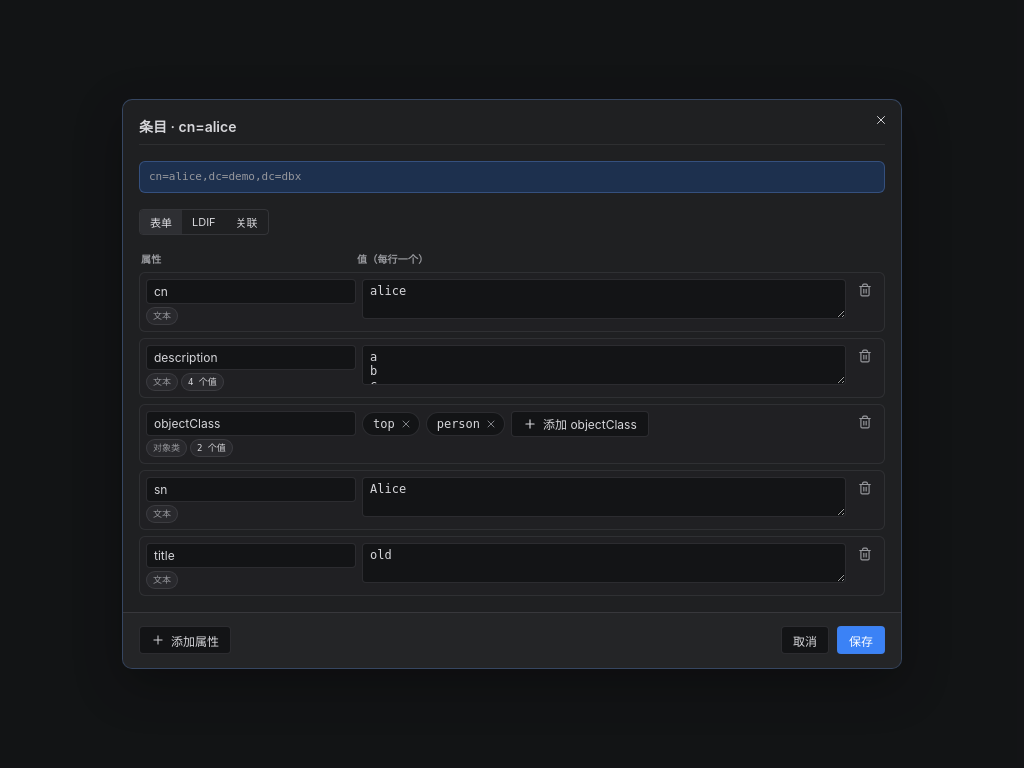
it: changes preview before save (edit mode) › veto Esc while the preview is open so edits cannot be dropped
Replace the text in the text box named "cn" with "alice2" at (604, 299), box [362, 279, 846, 319]
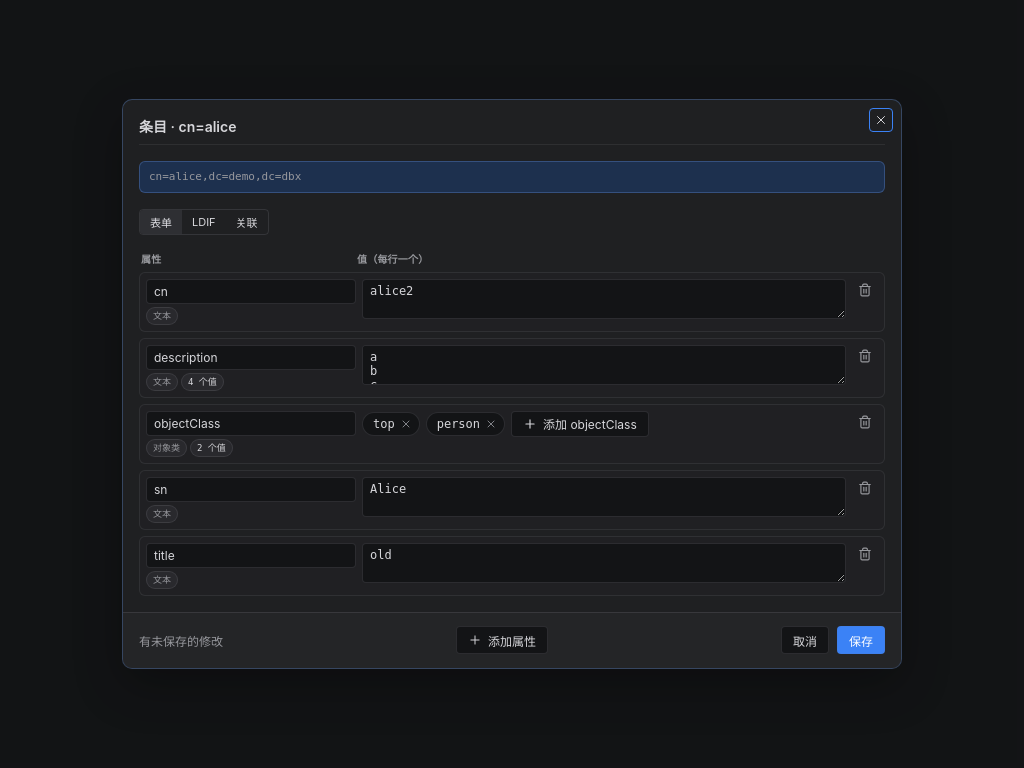
Click the button "保存" at (861, 640), box [837, 626, 885, 654]
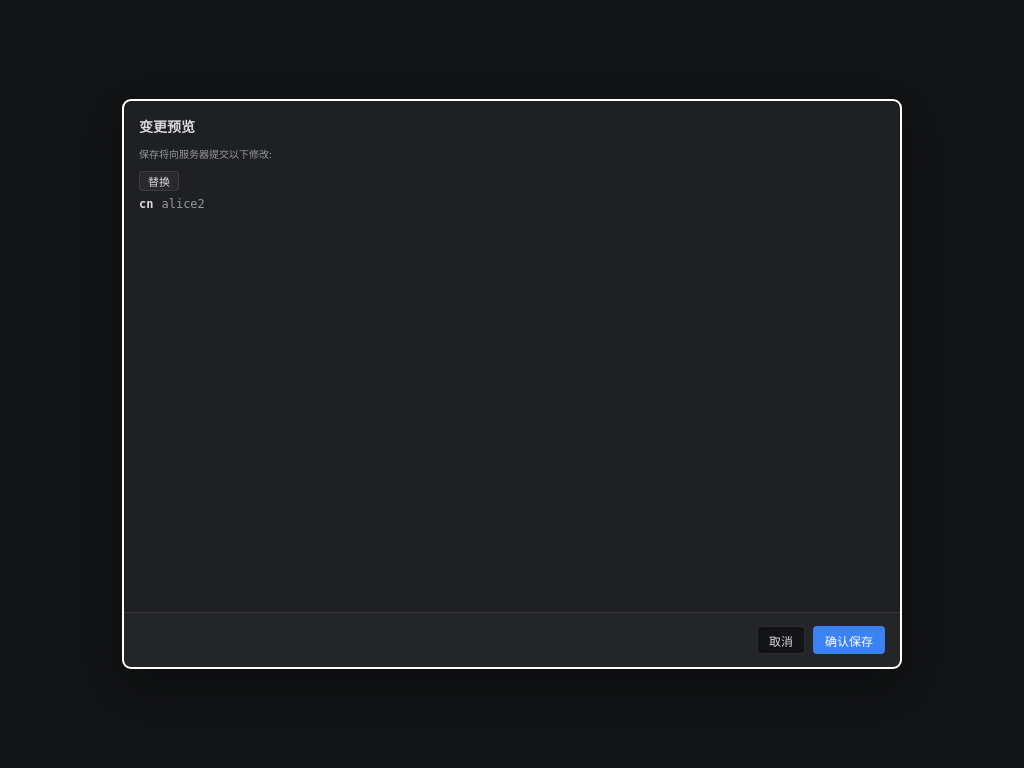
Expected: the dialog with class "changes-layer" is shown, [123, 100, 901, 668]
